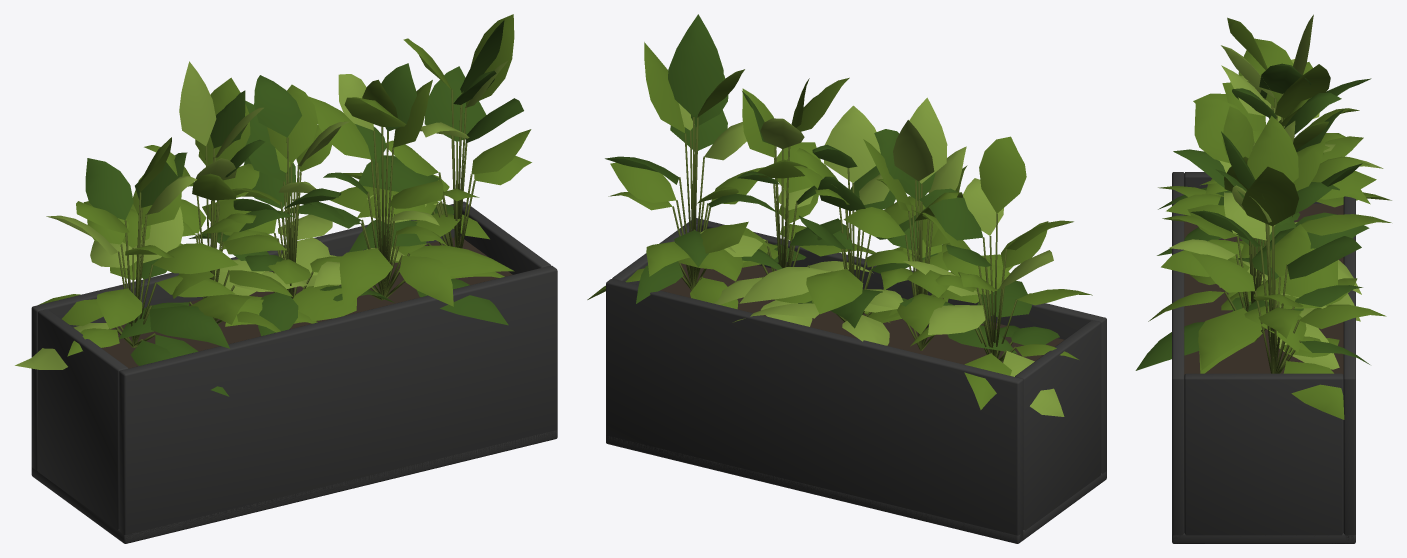
File: greenery.planter-box.glb
The picture shows the model from 3 angles, left to right: view 1: azimuth 30°, elevation 25°; view 2: azimuth 150°, elevation 25°; view 3: azimuth 270°, elevation 25°; orthographic projection. The views are drawn at different scales.
Parts seen in each view (by area): view 1: greenery.planter-box.001; view 2: greenery.planter-box.001; view 3: greenery.planter-box.001.
Boxes of the visible parts, left/top/right/bottom form: greenery.planter-box.001: left=15, top=14, right=557, bottom=543; greenery.planter-box.001: left=587, top=14, right=1106, bottom=543; greenery.planter-box.001: left=1135, top=14, right=1391, bottom=543.
Bounding box in the file's own units: 0.92 × 0.72 × 0.42.
